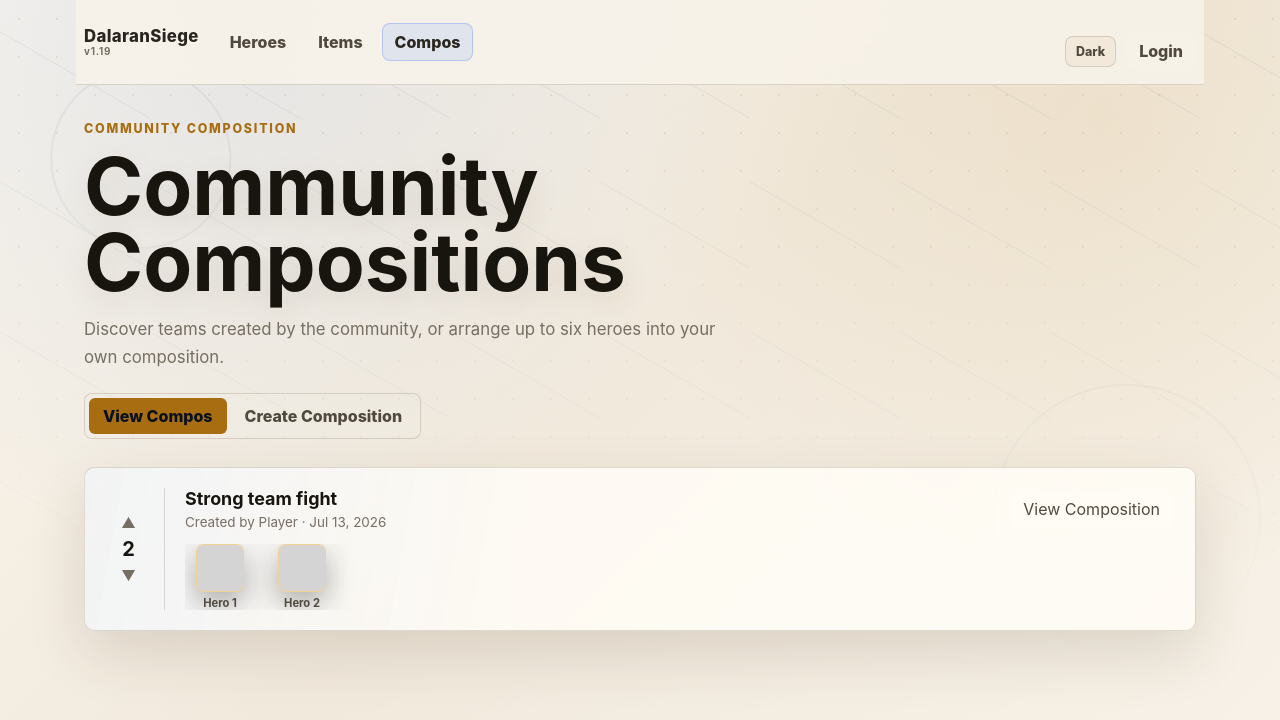
Test case: CompositionListComponent › shows a login-required create state to guests without rendering the form
This screenshot has width=1280, height=720.
Click the button "Create Composition" at {"x": 323, "y": 416}, box [230,398,416,434]
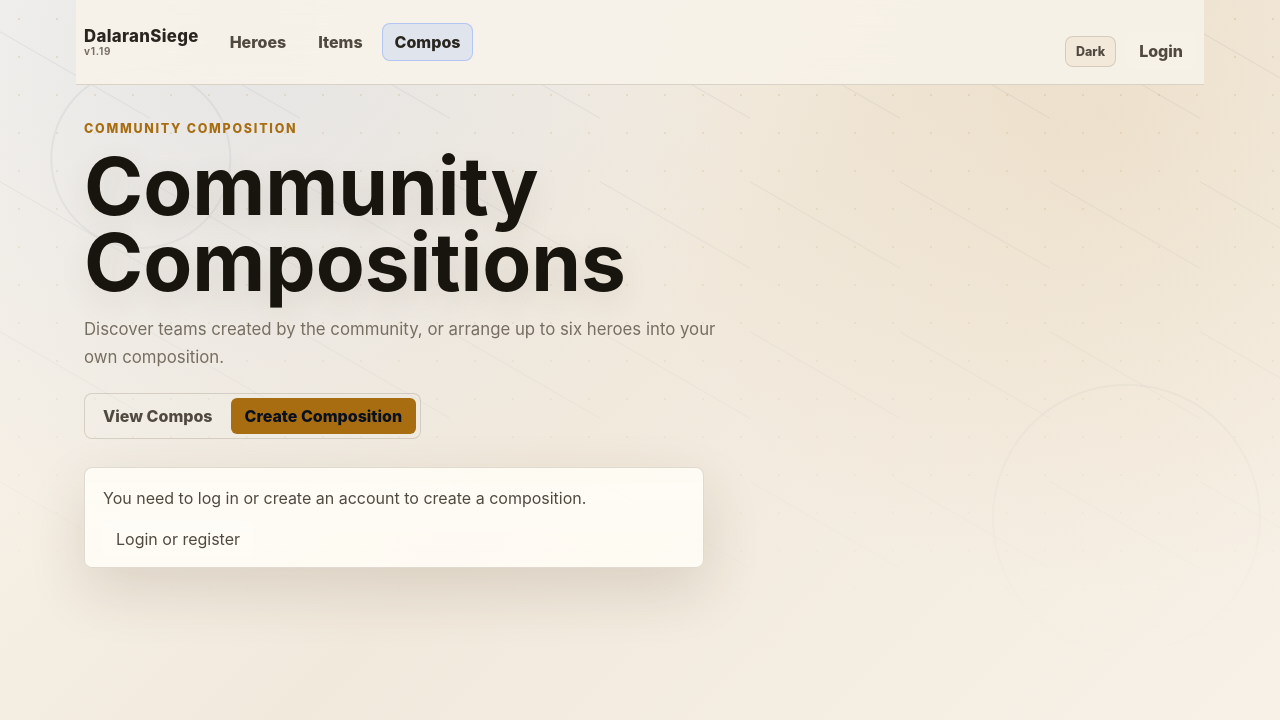
Now the text "You need to log in or create an account to create a composition." is shown, box [103,488,586,508]
Now the text "Login or register" is shown, box [103,520,253,558]
